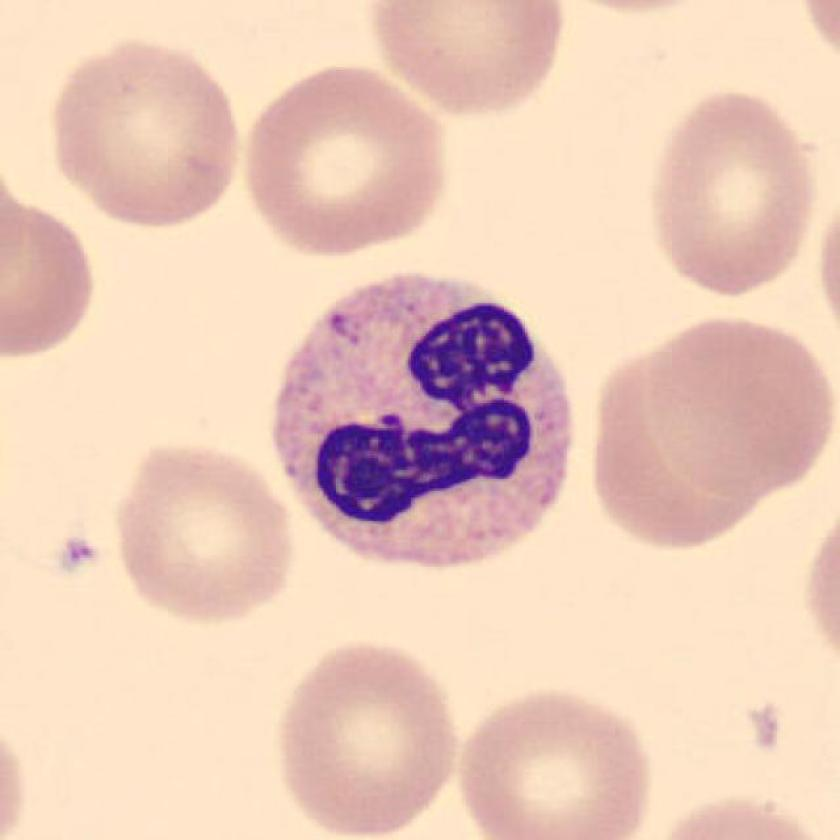neutrophil: (278, 273, 571, 565)
